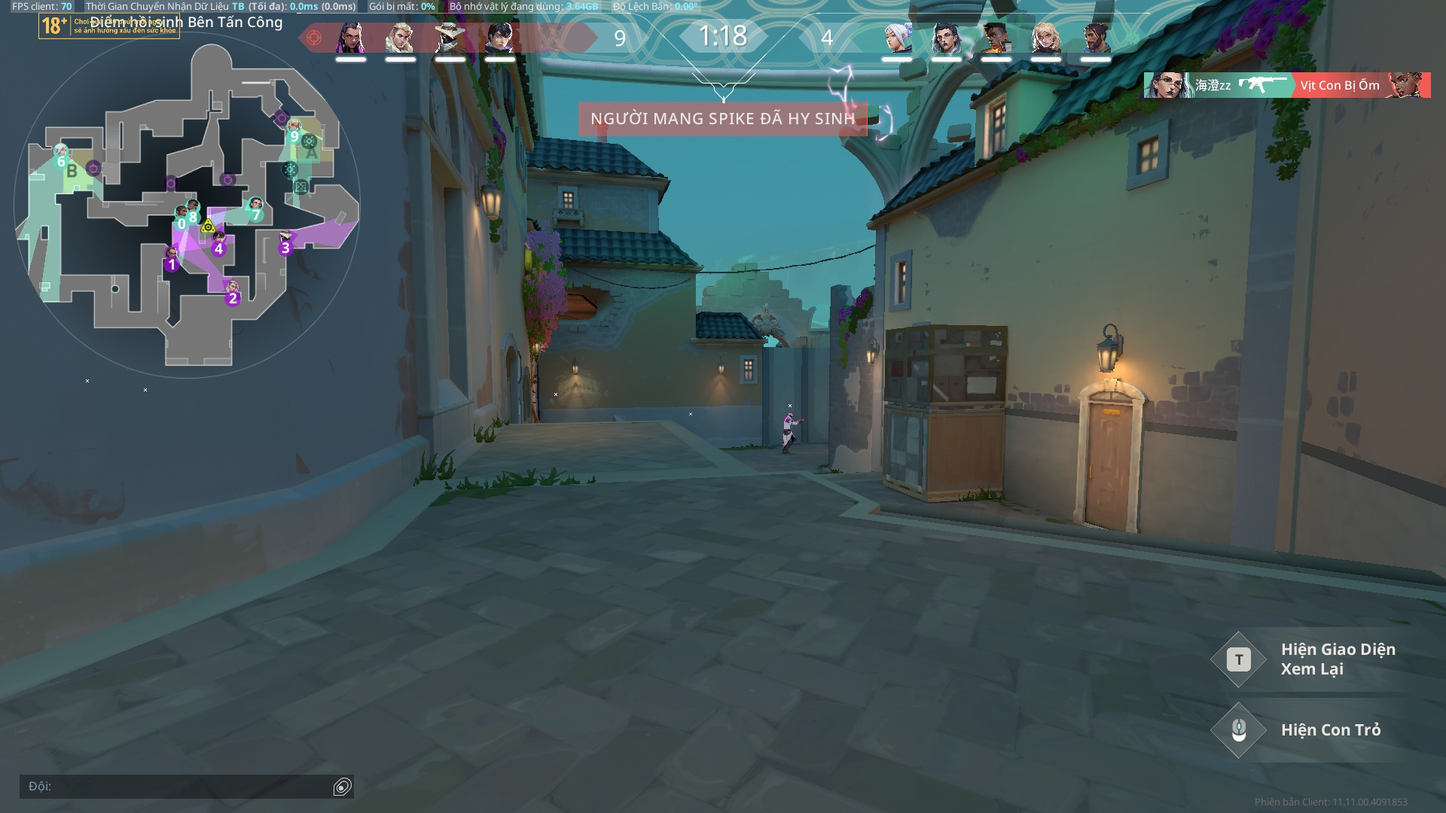body: (783, 416, 794, 430)
head: (786, 412, 794, 419)
